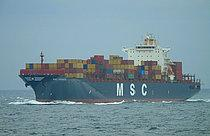Ship: (16, 31, 205, 105)
